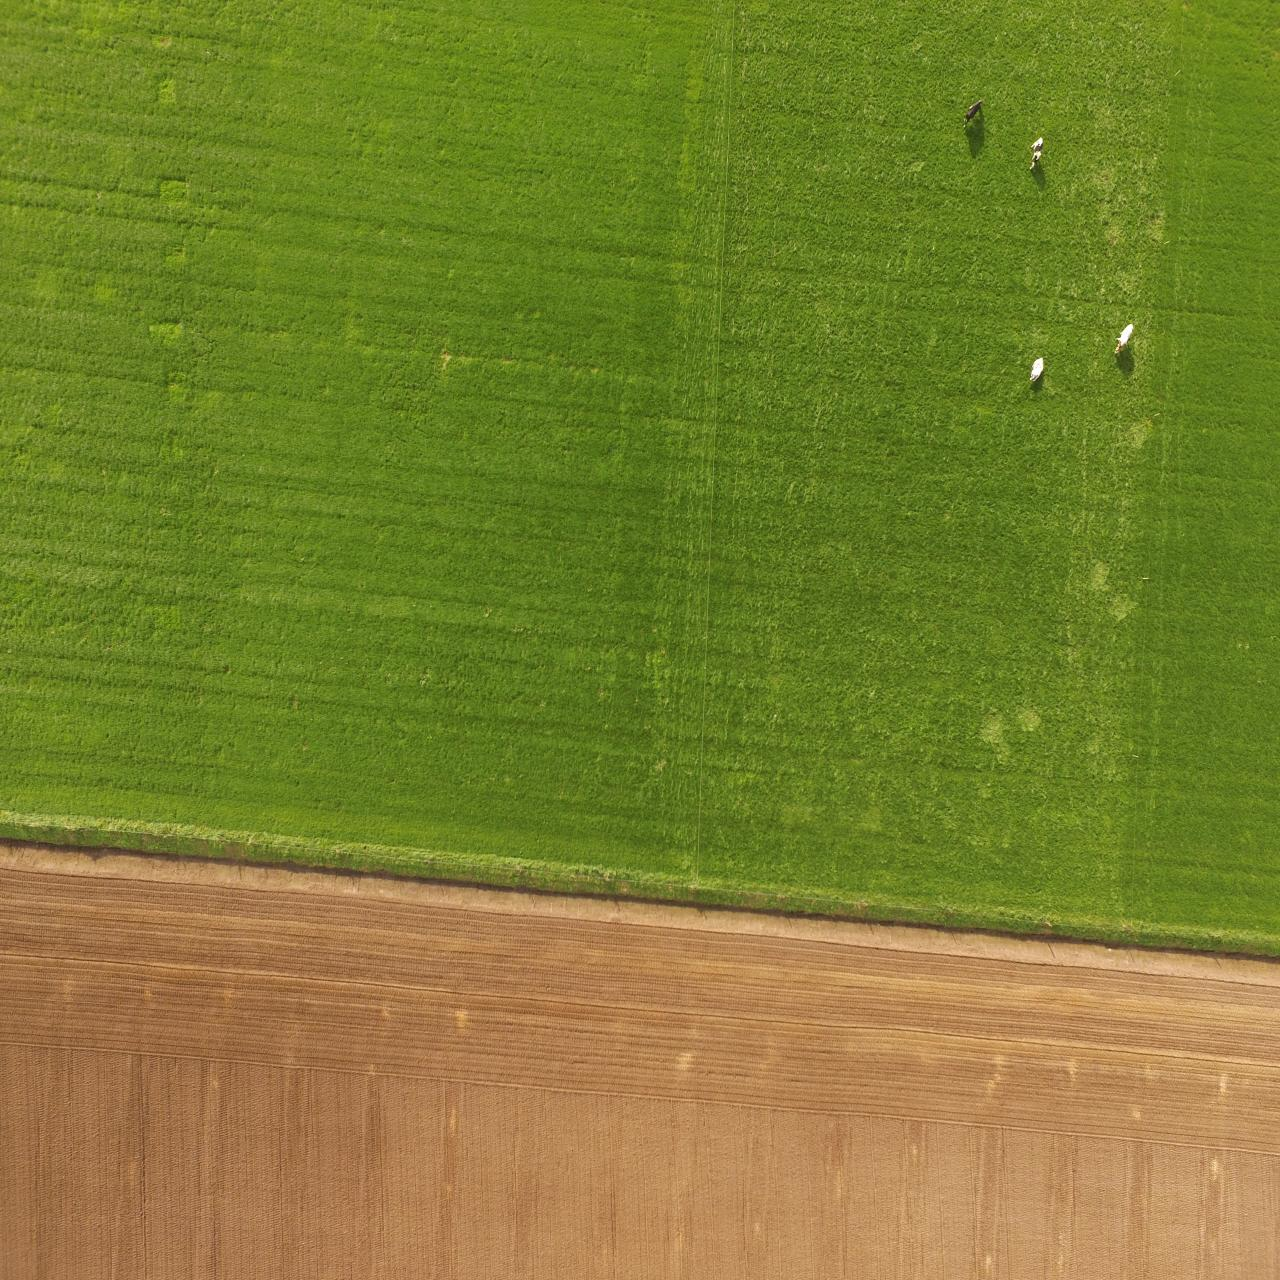cow: (1108, 316, 1139, 366), (1024, 349, 1053, 397), (960, 90, 985, 135), (1024, 137, 1049, 181)
